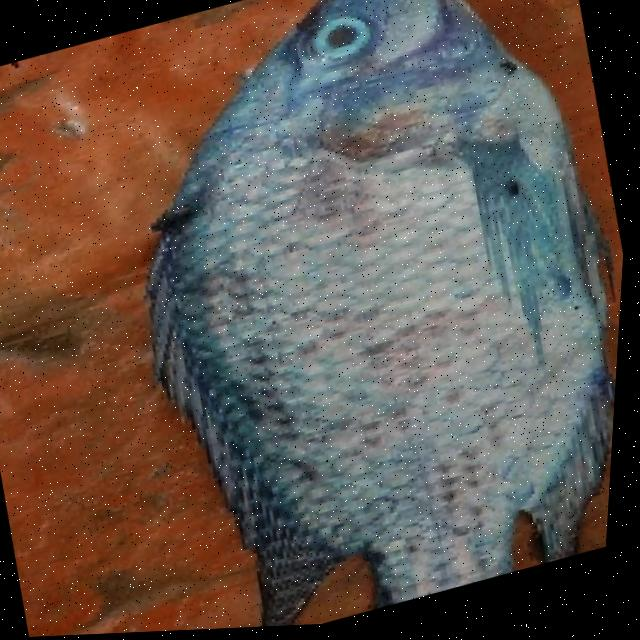Non-Fresh: (117, 42, 637, 626), (284, 0, 396, 87)
